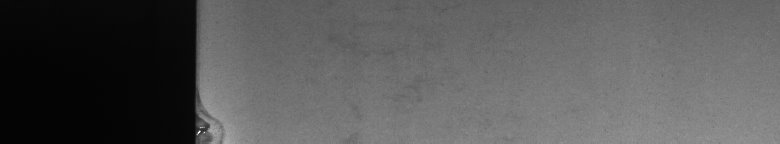hb: (204, 104, 229, 136)
